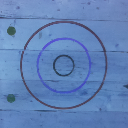Axe Tip: (123, 84, 128, 87)
